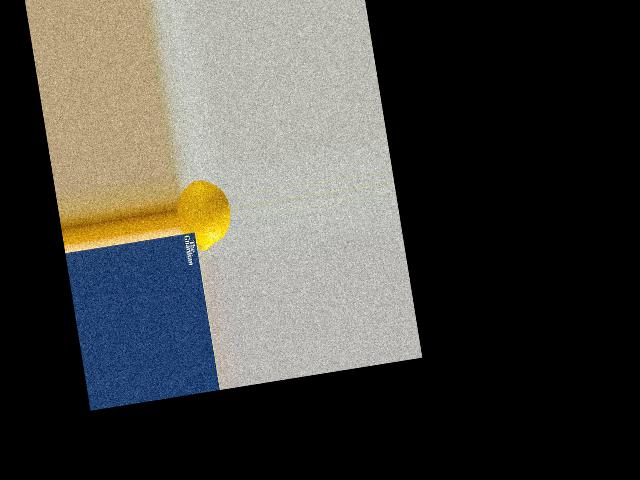lemon: (171, 170, 236, 255)
